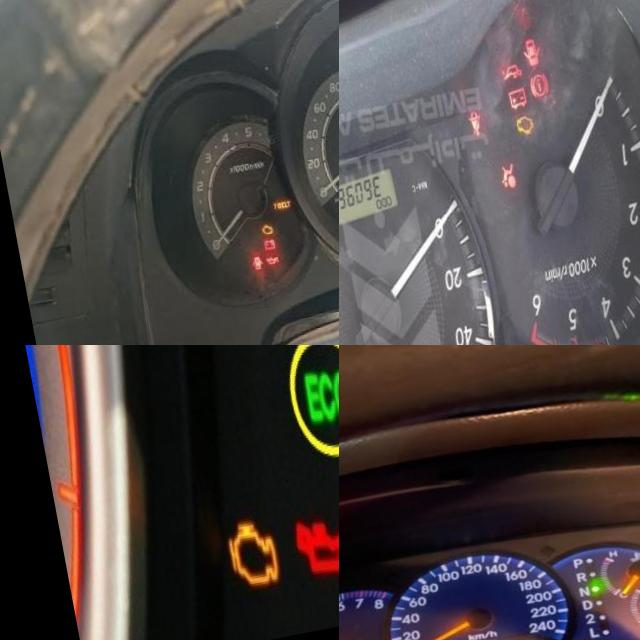Seat Belt: (460, 128, 476, 154)
